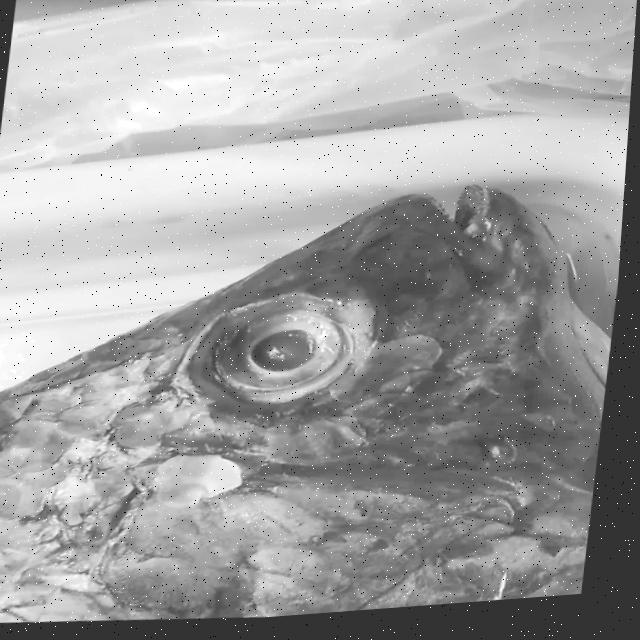Non-Fresh: (149, 275, 422, 454)
